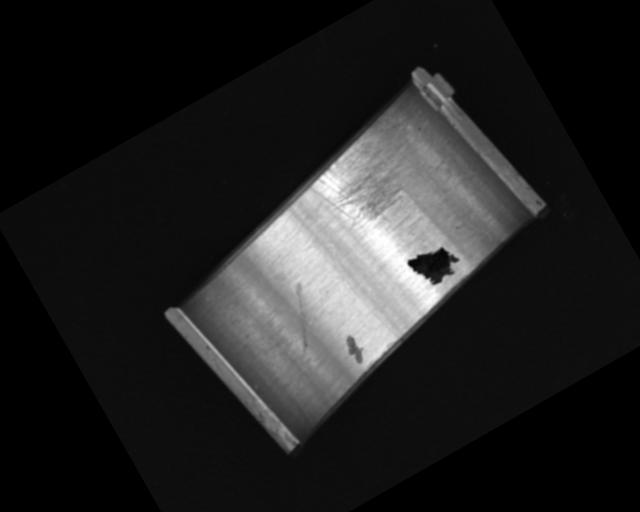blot: (405, 236, 466, 294)
bruise: (339, 331, 370, 368)
nick: (324, 236, 399, 346), (270, 279, 333, 356)
scratch: (294, 107, 442, 250)
